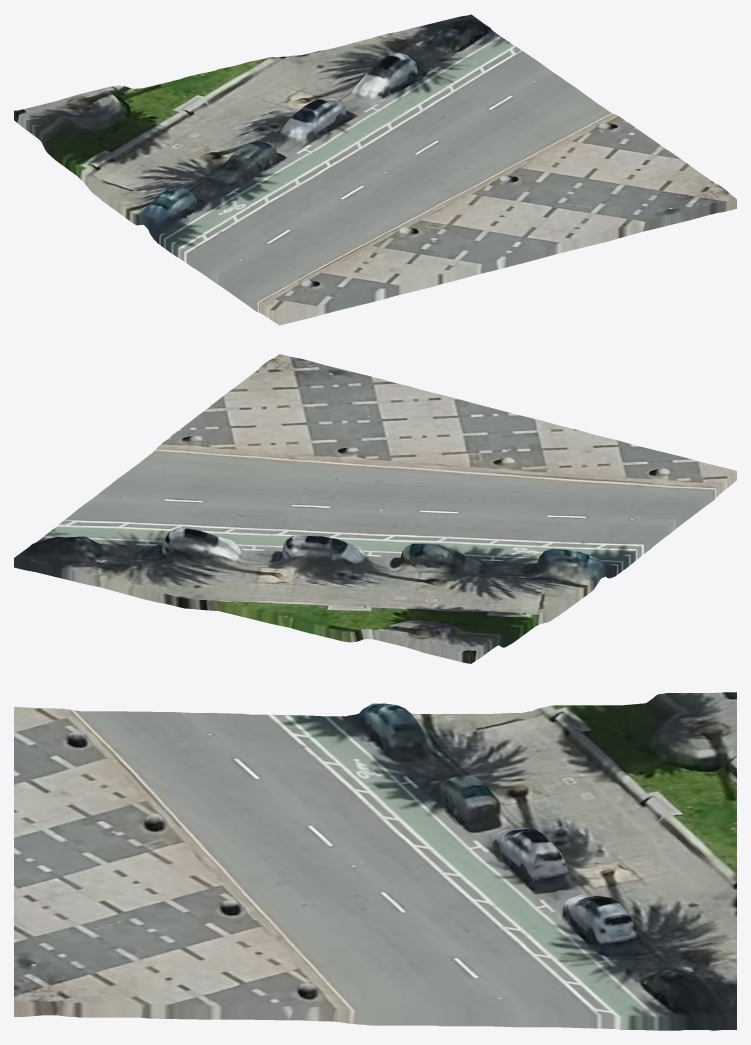
Rendered from z20-167787-405220-h0-yup-uvflip-v3-world.glb.
3 renders of one model, top to bottom at view 1: azimuth 30°, elevation 25°; view 2: azimuth 150°, elevation 25°; view 3: azimuth 270°, elevation 25°, orthographic. The views are drawn at different scales.
Bounding box in the file's own units: 30.16 × 2.2 × 30.32.
Materials: 1 (1 with a texture image).
